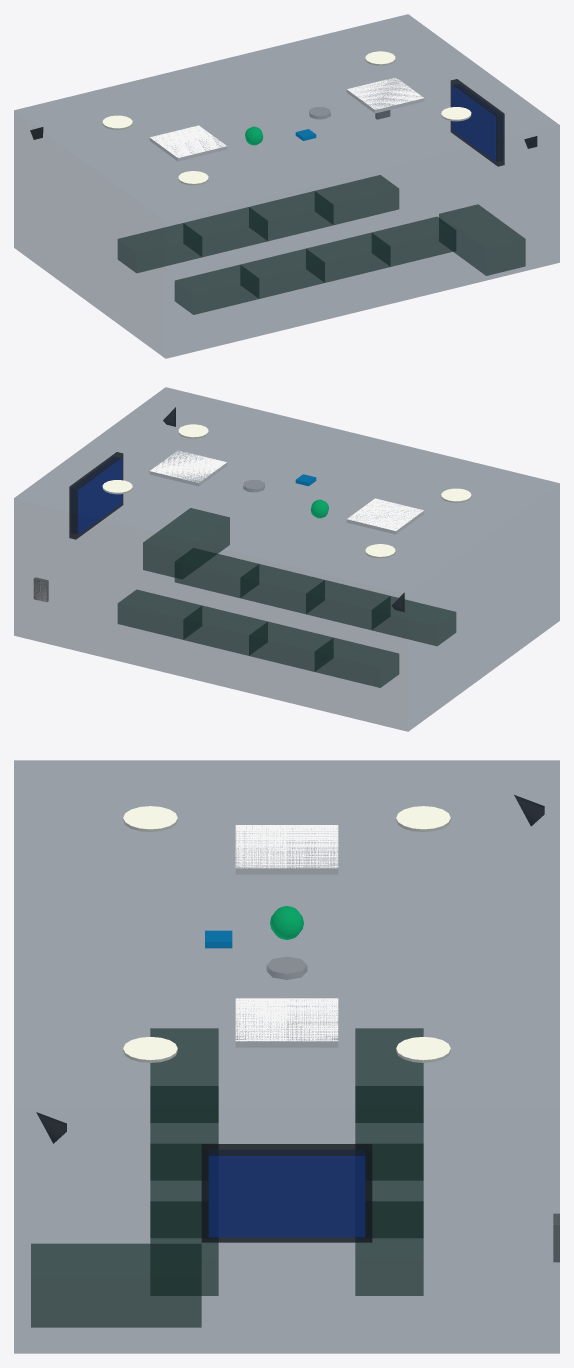
3 views of the same model, one above another, from view 1: azimuth 30°, elevation 25°; view 2: azimuth 150°, elevation 25°; view 3: azimuth 270°, elevation 25° (orthographic). The views are drawn at different scales.
Visible parts, largest first — view 1: Arch:WALL_L3-B5, object 17, object 2, object 6, object 10, object 5, object 8, object 3, object 7, object 4, object 9, object 11 (+2 smaller); view 2: Arch:WALL_L3-B5, object 17, object 2, object 10, object 6, object 4, object 7, object 3, object 5, object 8, object 9, object 11 (+2 smaller); view 3: Arch:WALL_L3-B5, object 10, object 17, object 11, object 5, Device:AC1_L3-B5, Device:AC2_L3-B5, object 3, object 7, object 2, object 6, object 9 (+8 smaller).
Part boxes in pixels (bbox=[...]): Arch:WALL_L3-B5: bbox=[14, 14, 559, 358]; object 17: bbox=[439, 204, 525, 275]; object 2: bbox=[118, 223, 201, 272]; object 6: bbox=[175, 265, 258, 314]; object 10: bbox=[450, 79, 504, 166]; object 5: bbox=[315, 175, 398, 224]; object 8: bbox=[306, 233, 390, 282]; object 3: bbox=[184, 207, 267, 256]; object 7: bbox=[241, 249, 324, 298]; object 4: bbox=[249, 191, 333, 240]; object 9: bbox=[372, 217, 452, 266]; object 11: bbox=[452, 85, 495, 161]; Arch:WALL_L3-B5: bbox=[14, 387, 559, 731]; object 17: bbox=[143, 508, 229, 577]; object 2: bbox=[315, 638, 398, 687]; object 10: bbox=[69, 452, 123, 539]; object 6: bbox=[372, 596, 455, 645]; object 4: bbox=[183, 606, 267, 655]; object 7: bbox=[306, 580, 389, 629]; object 3: bbox=[249, 622, 332, 671]; object 5: bbox=[118, 590, 201, 639]; object 8: bbox=[240, 564, 324, 613]; object 9: bbox=[175, 549, 258, 597]; object 11: bbox=[78, 458, 121, 534]; Arch:WALL_L3-B5: bbox=[14, 760, 559, 1353]; object 10: bbox=[201, 1144, 372, 1242]; object 17: bbox=[31, 1244, 201, 1327]; object 11: bbox=[209, 1156, 364, 1236]; object 5: bbox=[355, 1201, 423, 1295]; Device:AC1_L3-B5: bbox=[235, 825, 338, 874]; Device:AC2_L3-B5: bbox=[235, 998, 338, 1047]; object 3: bbox=[355, 1086, 423, 1143]; object 7: bbox=[150, 1086, 218, 1143]; object 2: bbox=[355, 1028, 423, 1085]; object 6: bbox=[150, 1028, 218, 1085]; object 9: bbox=[150, 1201, 218, 1295].
Size of the model in its own units: 12 by 4.01 by 8.
